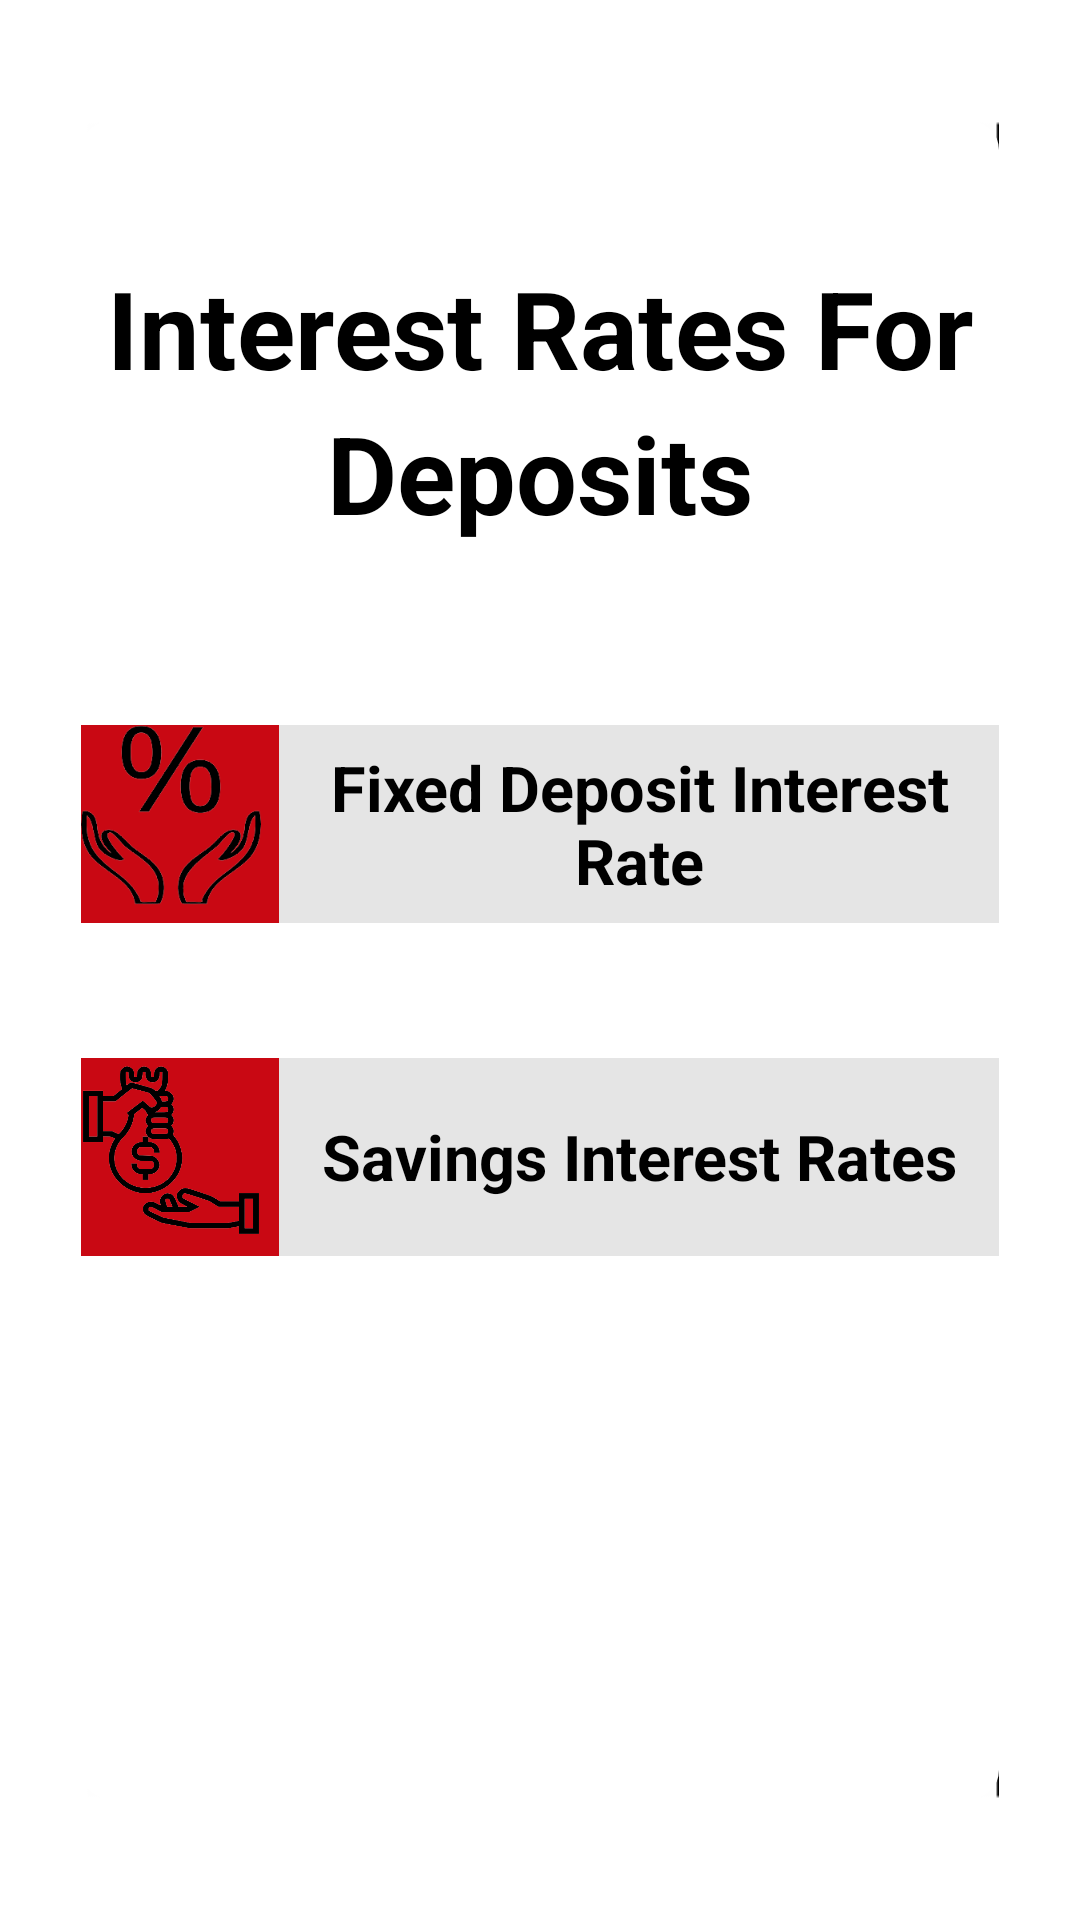

Locate icon controls on the screen. Image size 1080×1920, boxes as (x1, y1, x2, y2).
loan service: (83, 1066, 259, 1234)
